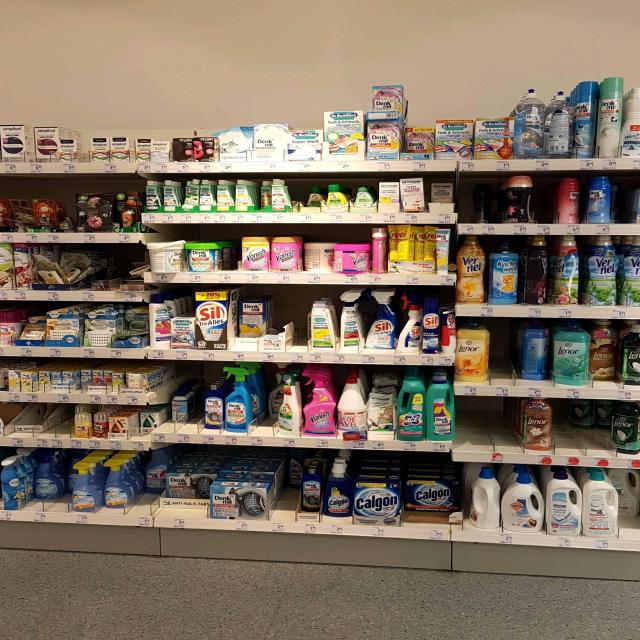empty_space: (561, 405, 610, 452), (461, 400, 511, 444)
